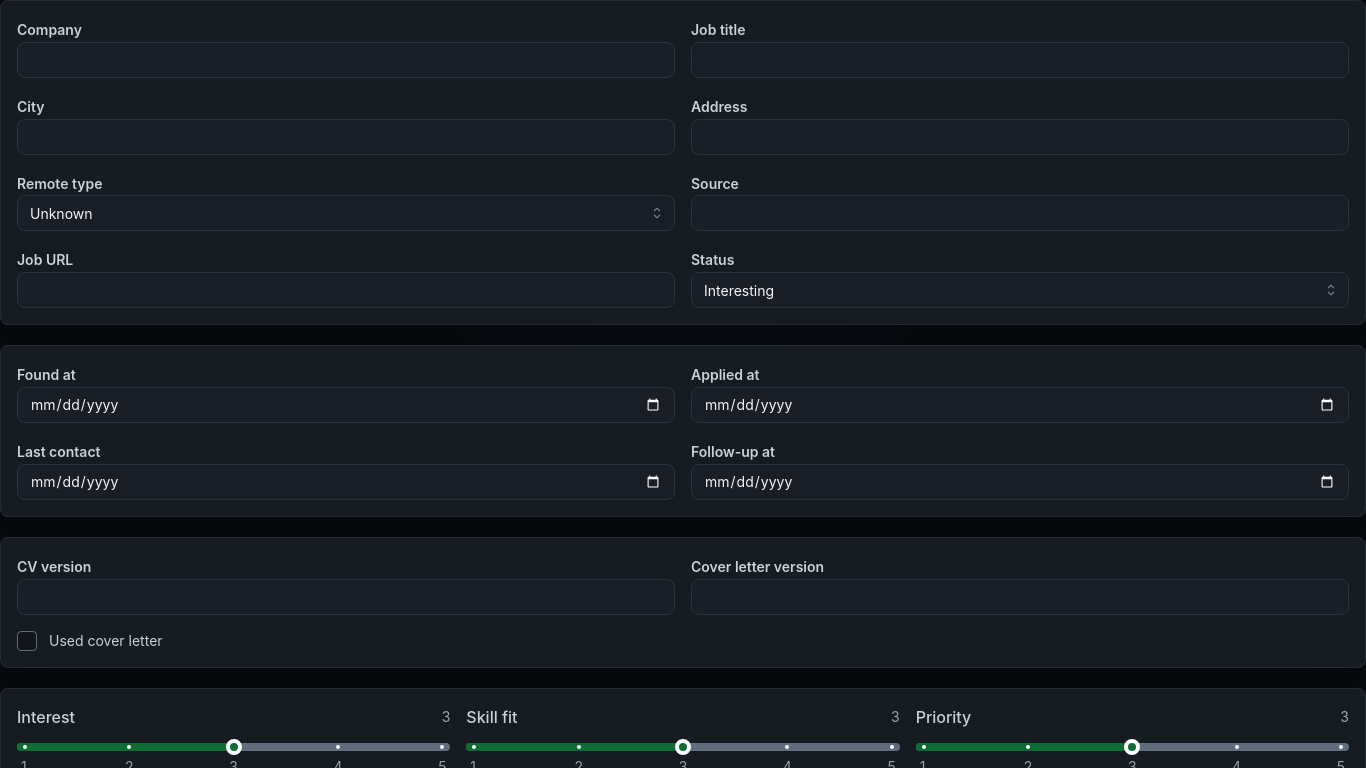
Scenario: ApplicationForm › shows validation errors for required fields
Clear the field labelled "Company": (346, 60) [17,42,675,78]
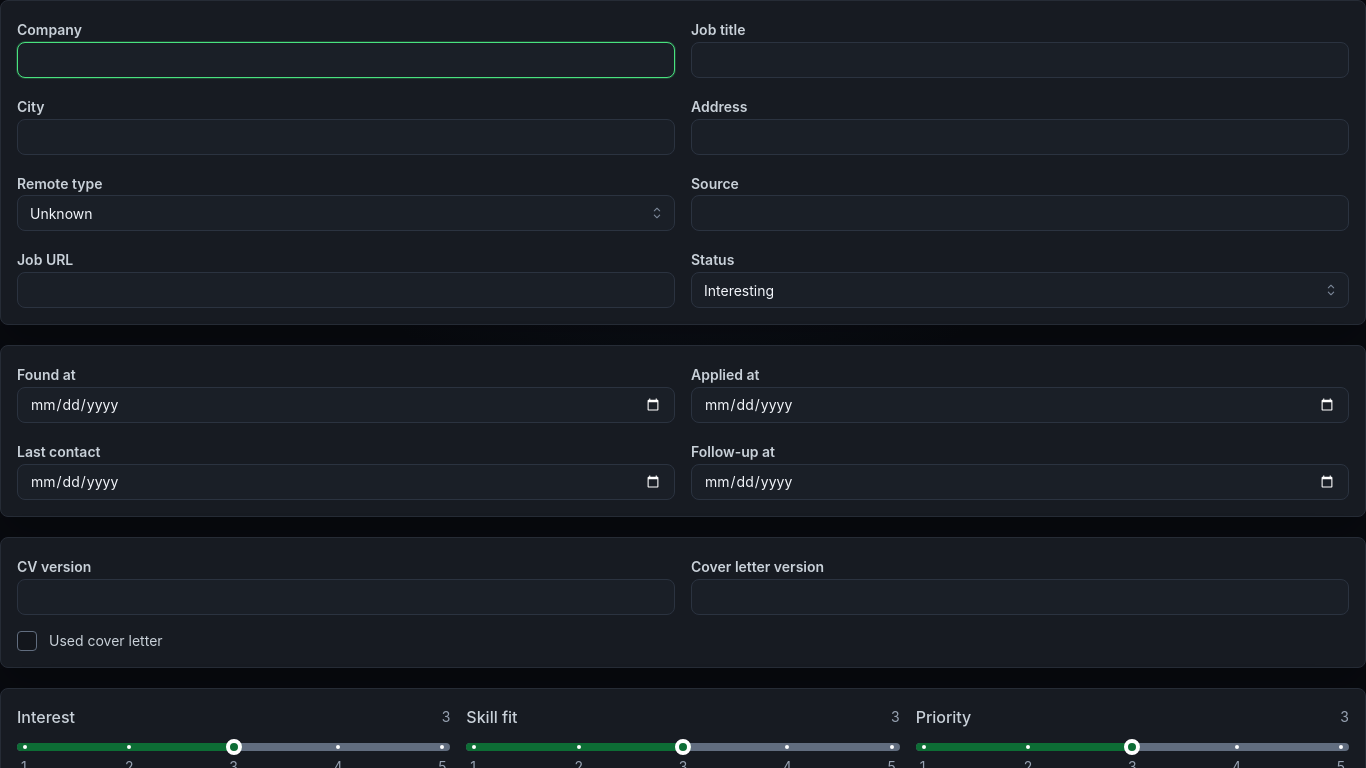
Clear the field labelled "Job title": (1020, 60) [691,42,1349,78]
(page scrolled)
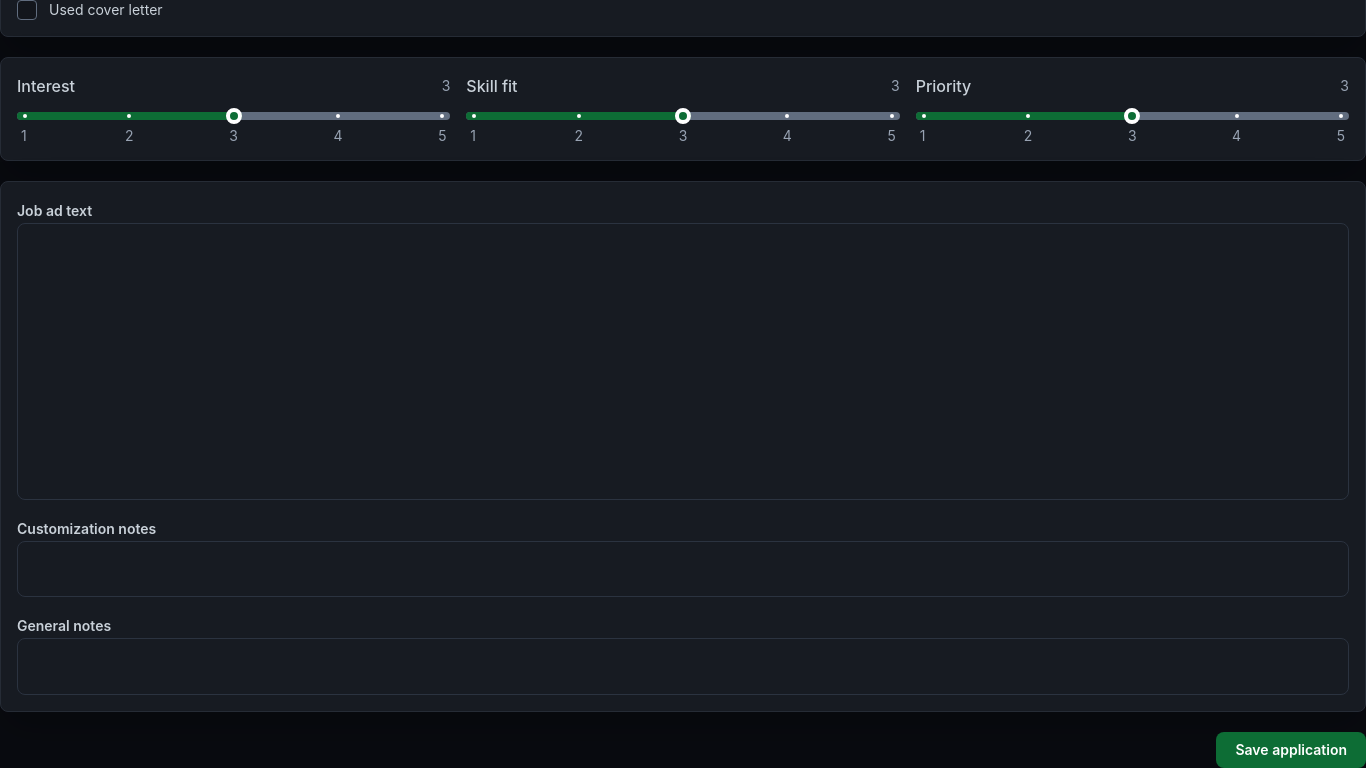
Click the button "Save application": (1291, 750) [1216,732,1365,767]
(page scrolled)
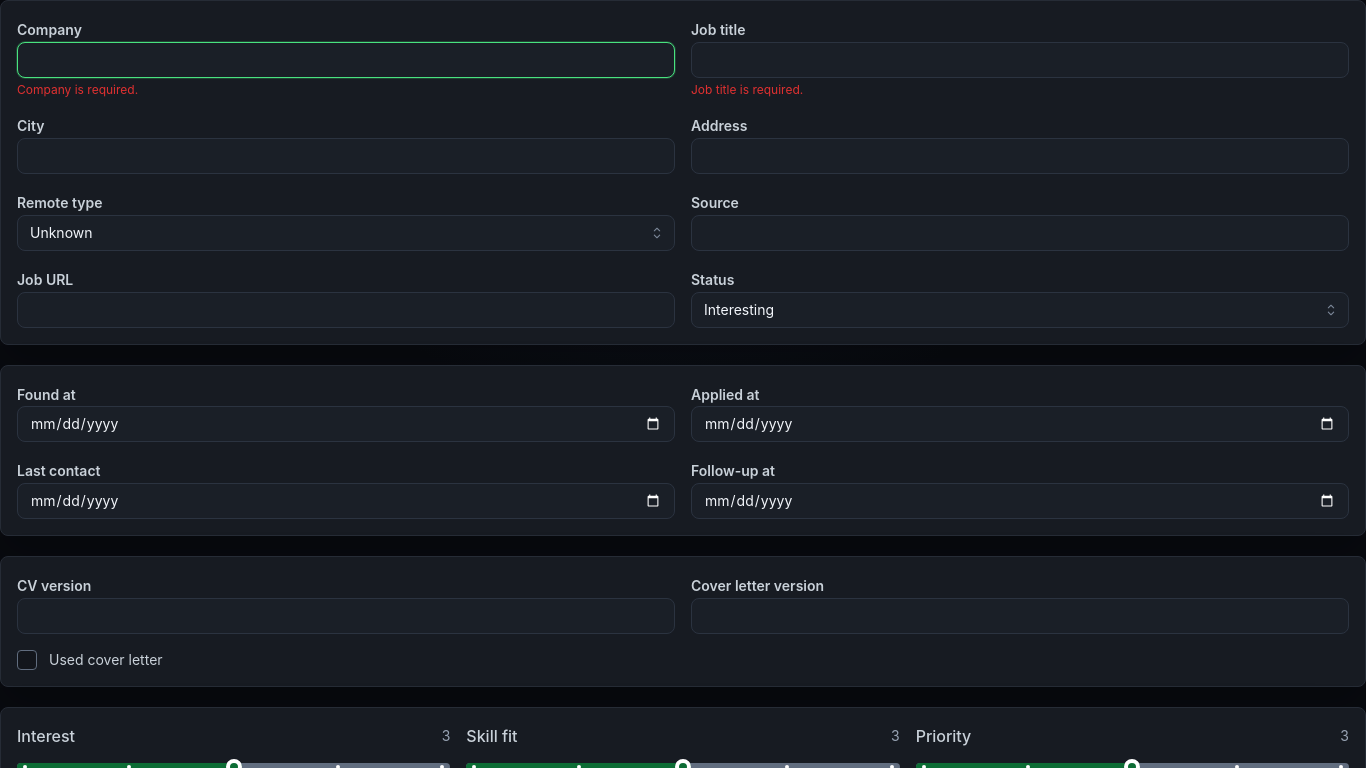
expect the text "Company is required." is shown: met, box [17,82,138,97]
expect the text "Job title is required." is shown: met, box [691,82,803,97]
